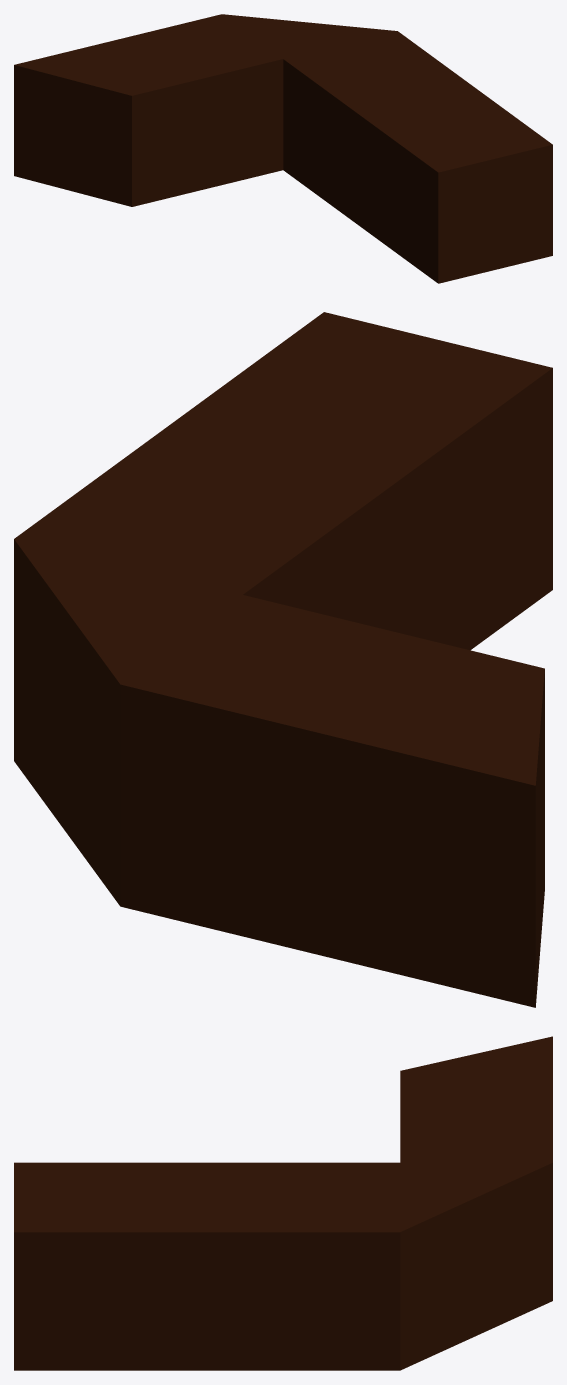
The model's file is croix_part2.fbx.
The picture shows the model from 3 angles, top to bottom: view 1: azimuth 30°, elevation 25°; view 2: azimuth 150°, elevation 25°; view 3: azimuth 270°, elevation 25°; orthographic projection. The views are drawn at different scales.
Visible parts, largest first — view 1: Box002; view 2: Box002; view 3: Box002.
Boxes of the visible parts, x1,y1,x2,y2 form: Box002: [14, 14, 552, 283]; Box002: [14, 312, 552, 1007]; Box002: [14, 1036, 552, 1370].
Bounding box in the file's own units: 0.0351 × 0.0115 × 0.0408.
